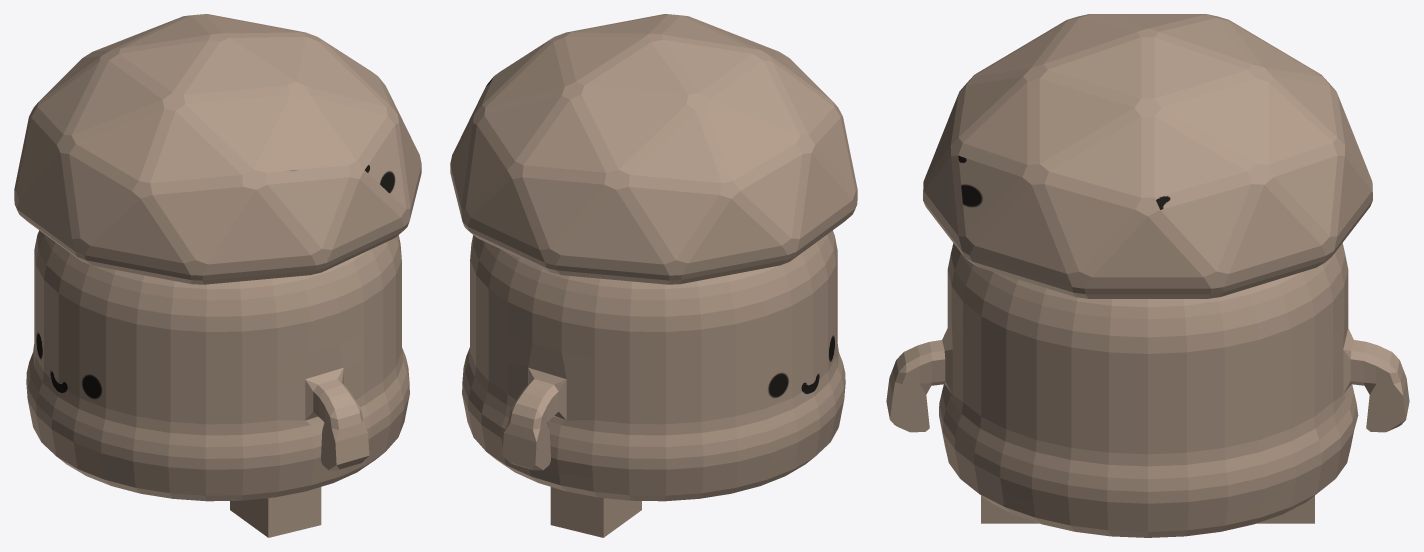
The model's file is npc.glb.
The picture shows the model from 3 angles, left to right: view 1: azimuth 30°, elevation 25°; view 2: azimuth 150°, elevation 25°; view 3: azimuth 270°, elevation 25°; orthographic projection. The views are drawn at different scales.
Parts seen in each view (by area): view 1: Cube.001, Cube, Cube.003; view 2: Cube.001, Cube, Cube.002; view 3: Cube, Cube.001, Cube.002, Cube.003.
Part boxes in pixels (x1=…): Cube.001: x1=14, y1=14, x2=421, y2=284; Cube: x1=26, y1=230, x2=409, y2=501; Cube.003: x1=230, y1=487, x2=321, y2=537; Cube.001: x1=450, y1=14, x2=857, y2=284; Cube: x1=462, y1=230, x2=845, y2=501; Cube.002: x1=550, y1=487, x2=641, y2=537; Cube: x1=886, y1=243, x2=1409, y2=537; Cube.001: x1=923, y1=14, x2=1372, y2=298; Cube.002: x1=1257, y1=496, x2=1314, y2=523; Cube.003: x1=981, y1=496, x2=1038, y2=523.
Size of the model in its own units: 11.38 by 13.79 by 13.73.
Materials: 1 (1 with a texture image).
